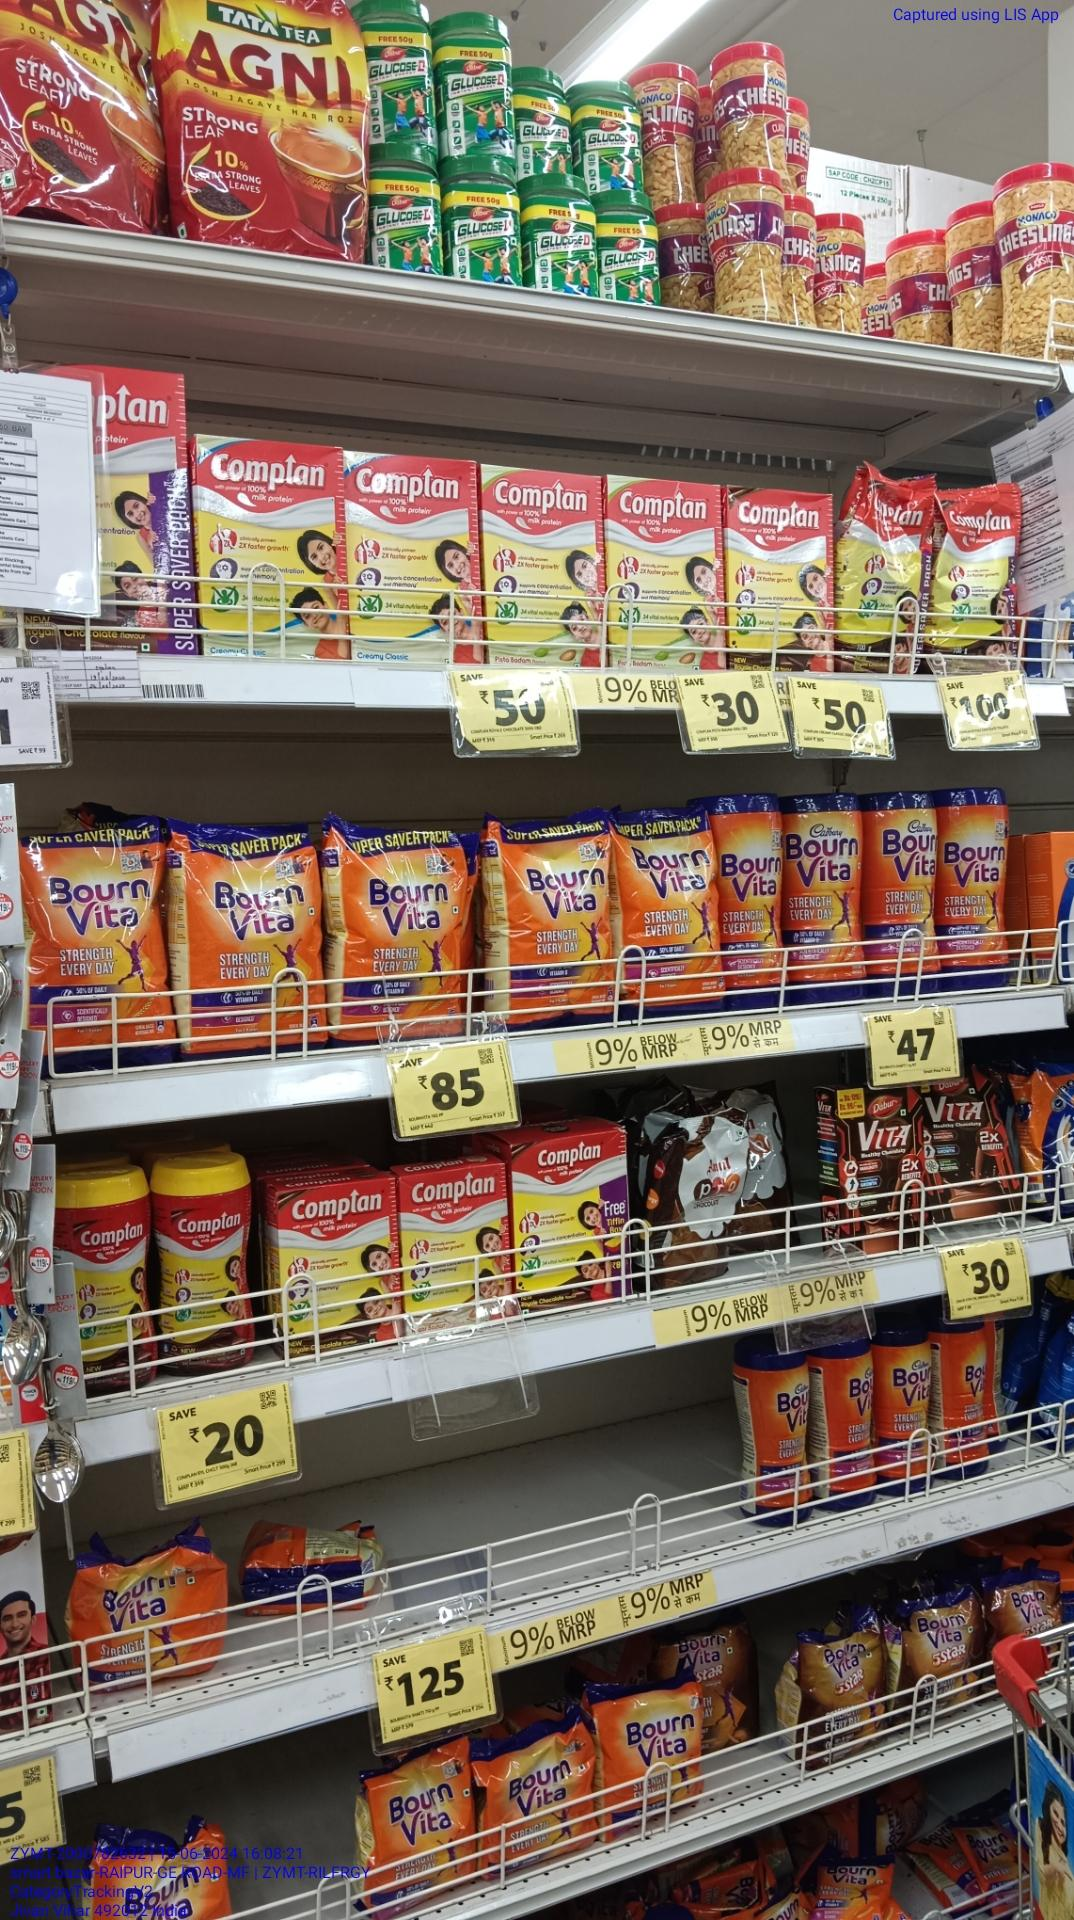BOURN_VITA_1_KG_JAR: (793, 795, 867, 1001), (872, 794, 941, 1000), (724, 794, 788, 1011), (947, 787, 1008, 1000)
BOURN_VITA_1_KG_POUCH: (175, 820, 326, 1047), (28, 824, 166, 1059), (331, 816, 472, 1039), (486, 811, 610, 1023), (621, 812, 719, 1014)
BOURN_VITA_500_G_JAR: (738, 1348, 810, 1524), (817, 1338, 879, 1511), (937, 1321, 992, 1470), (884, 1331, 932, 1493)
BOURN_VITA_500_G_POUCH: (364, 1762, 478, 1900), (602, 1683, 701, 1821), (484, 1738, 594, 1854)
BOURN_VITA_FIVE_STAR_MAGIC_500_G_POUCH: (800, 1633, 881, 1760), (889, 1607, 983, 1717)
COMPLAN_CHOCOLATE_200_GMS_PACK: (284, 1185, 400, 1357)
COMPLAN_CHOCOLATE_500_GMS_JAR: (162, 1154, 252, 1375), (88, 1167, 150, 1399)
COMPLAN_CHOCOLATE_500_GMS_PACK: (730, 487, 834, 675), (516, 1138, 631, 1299)
COMPLAN_CREAMY_CLASSIC_500_G_PACK: (199, 444, 344, 662), (350, 452, 483, 662)
COMPLAN_KESAR_BADAM_200_GMS_PACK: (404, 1171, 511, 1324)
COMPLAN_PISTA_BADAM_500_GMS_PACK: (606, 471, 726, 669), (490, 465, 599, 667)
COMPLAN_RC_POUCH_700_GMS_12: (844, 477, 926, 670), (935, 485, 1020, 666)
